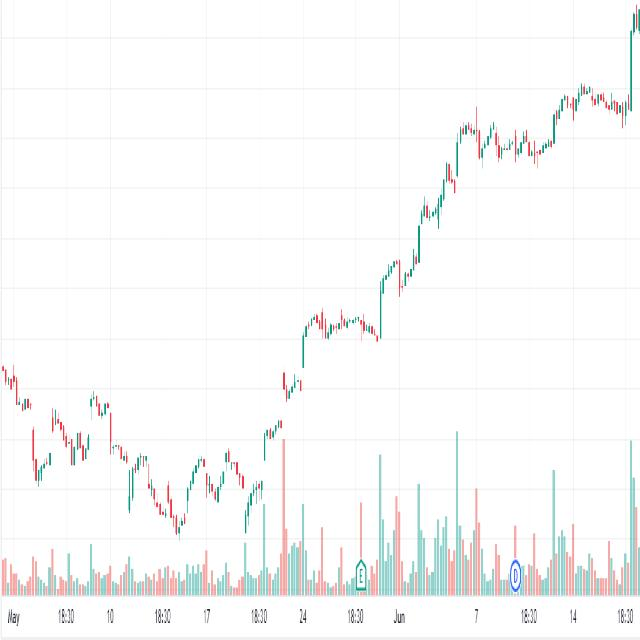Channel-up: (204, 88, 500, 559)
